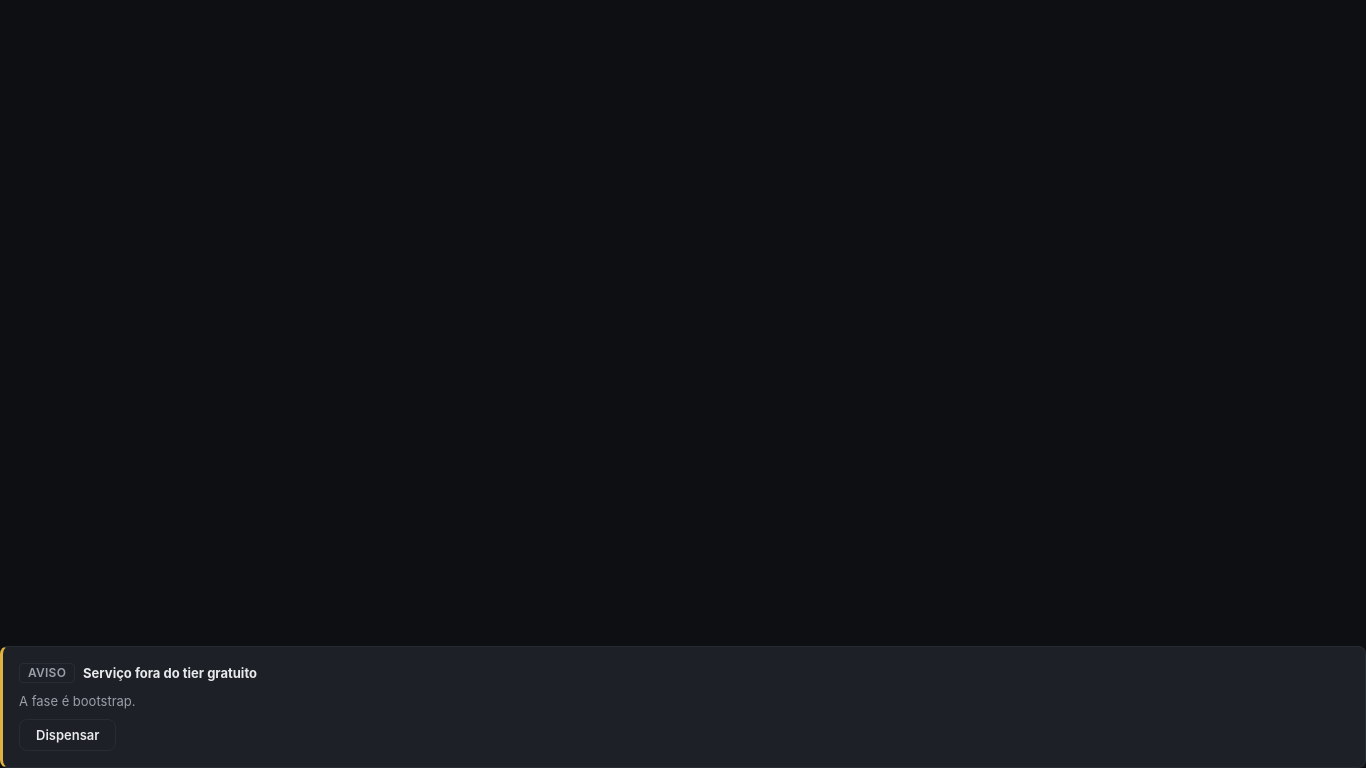
Scenario: AvisoRegra › cancelar fecha o formulário sem decidir
(page scrolled)
Click the button "Dispensar". click: (68, 735)
box: [19,719,116,751]
(page scrolled)
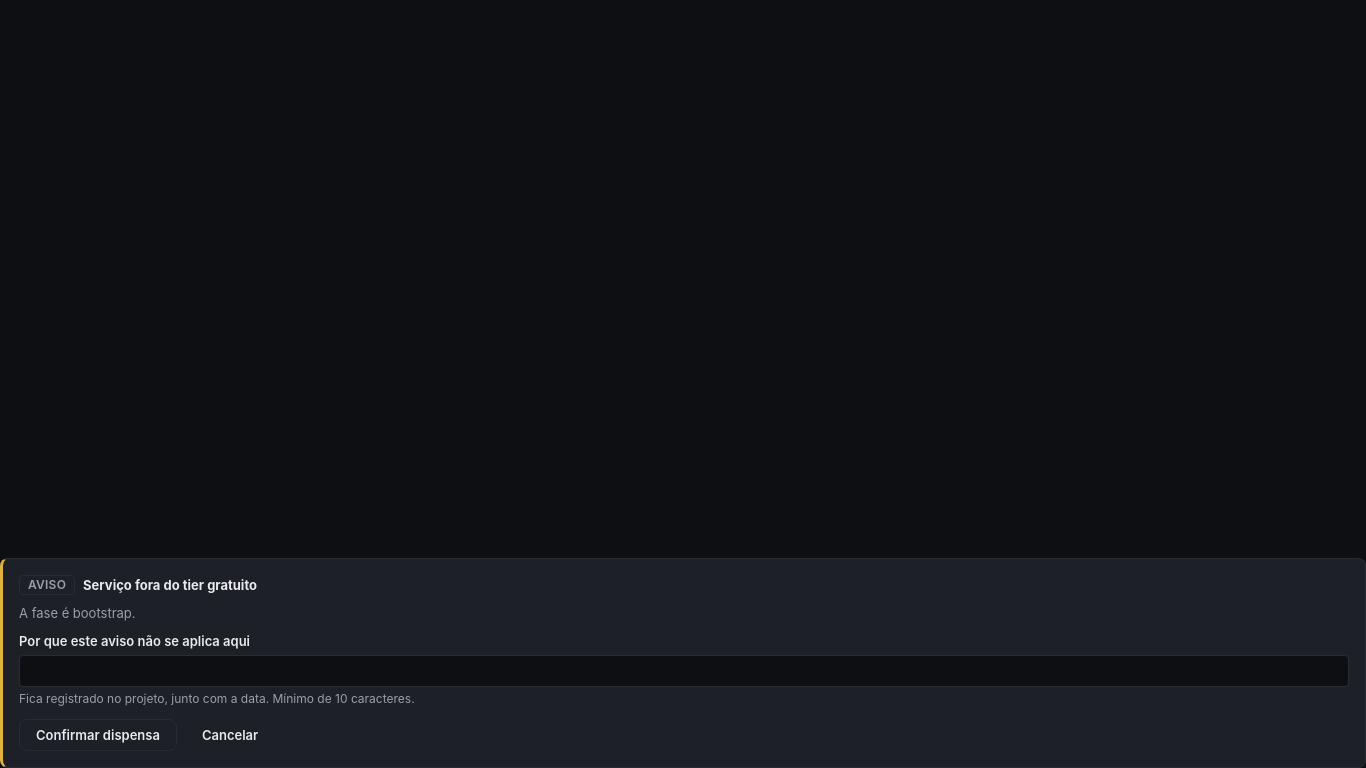
Click the button "Cancelar". click: (230, 735)
box: [185,719,275,751]
(page scrolled)
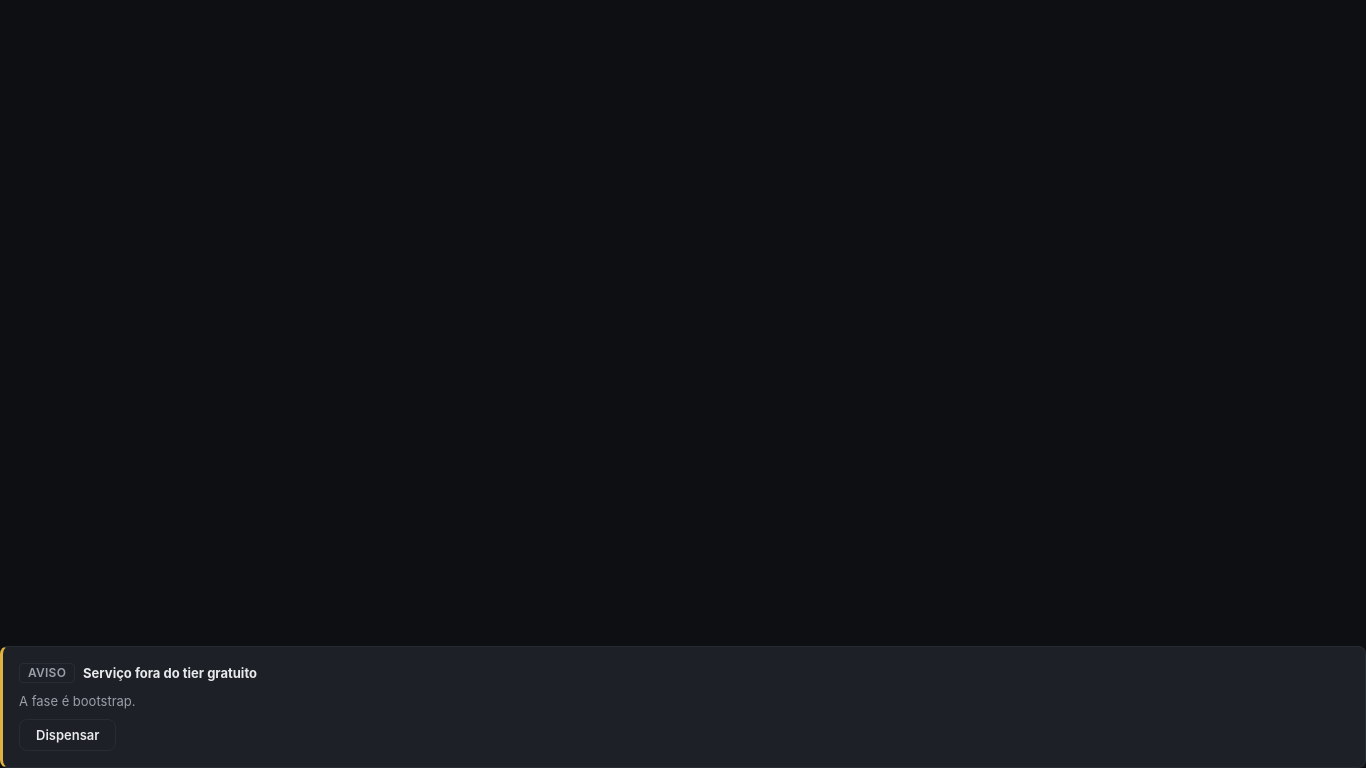
Expected: the label labelled "Por que este aviso não se aplica aqui" is gone
